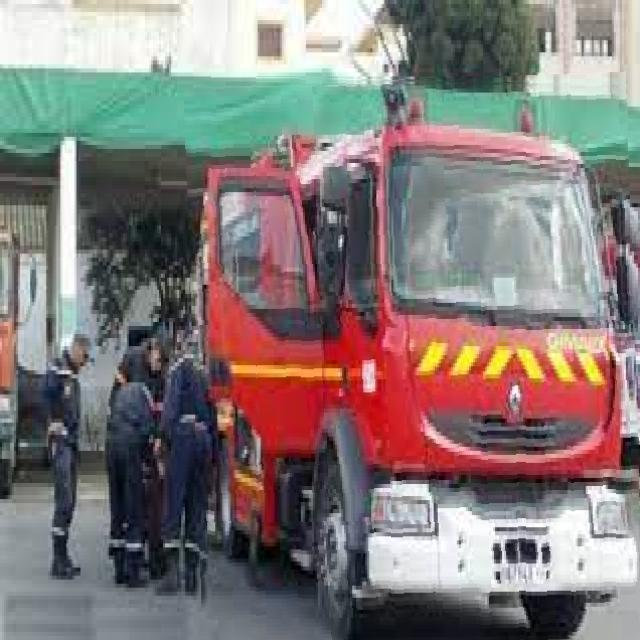Protection Civile: (188, 75, 640, 640)
